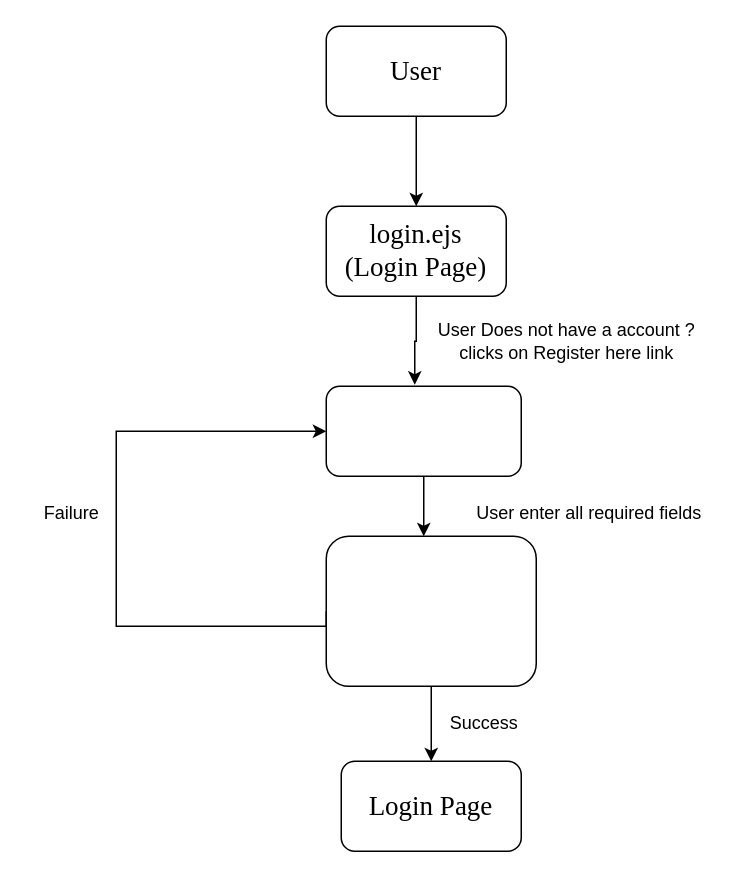
This 741x878 diagram has some shape labels left out. The box of each missing label's shape, as (x1, y1, x2, y2) in pixels:
register.ejs (Create Account Page): (325, 385, 521, 476)
Validates, authenticates and Stores Data in users_database: (325, 535, 536, 686)
